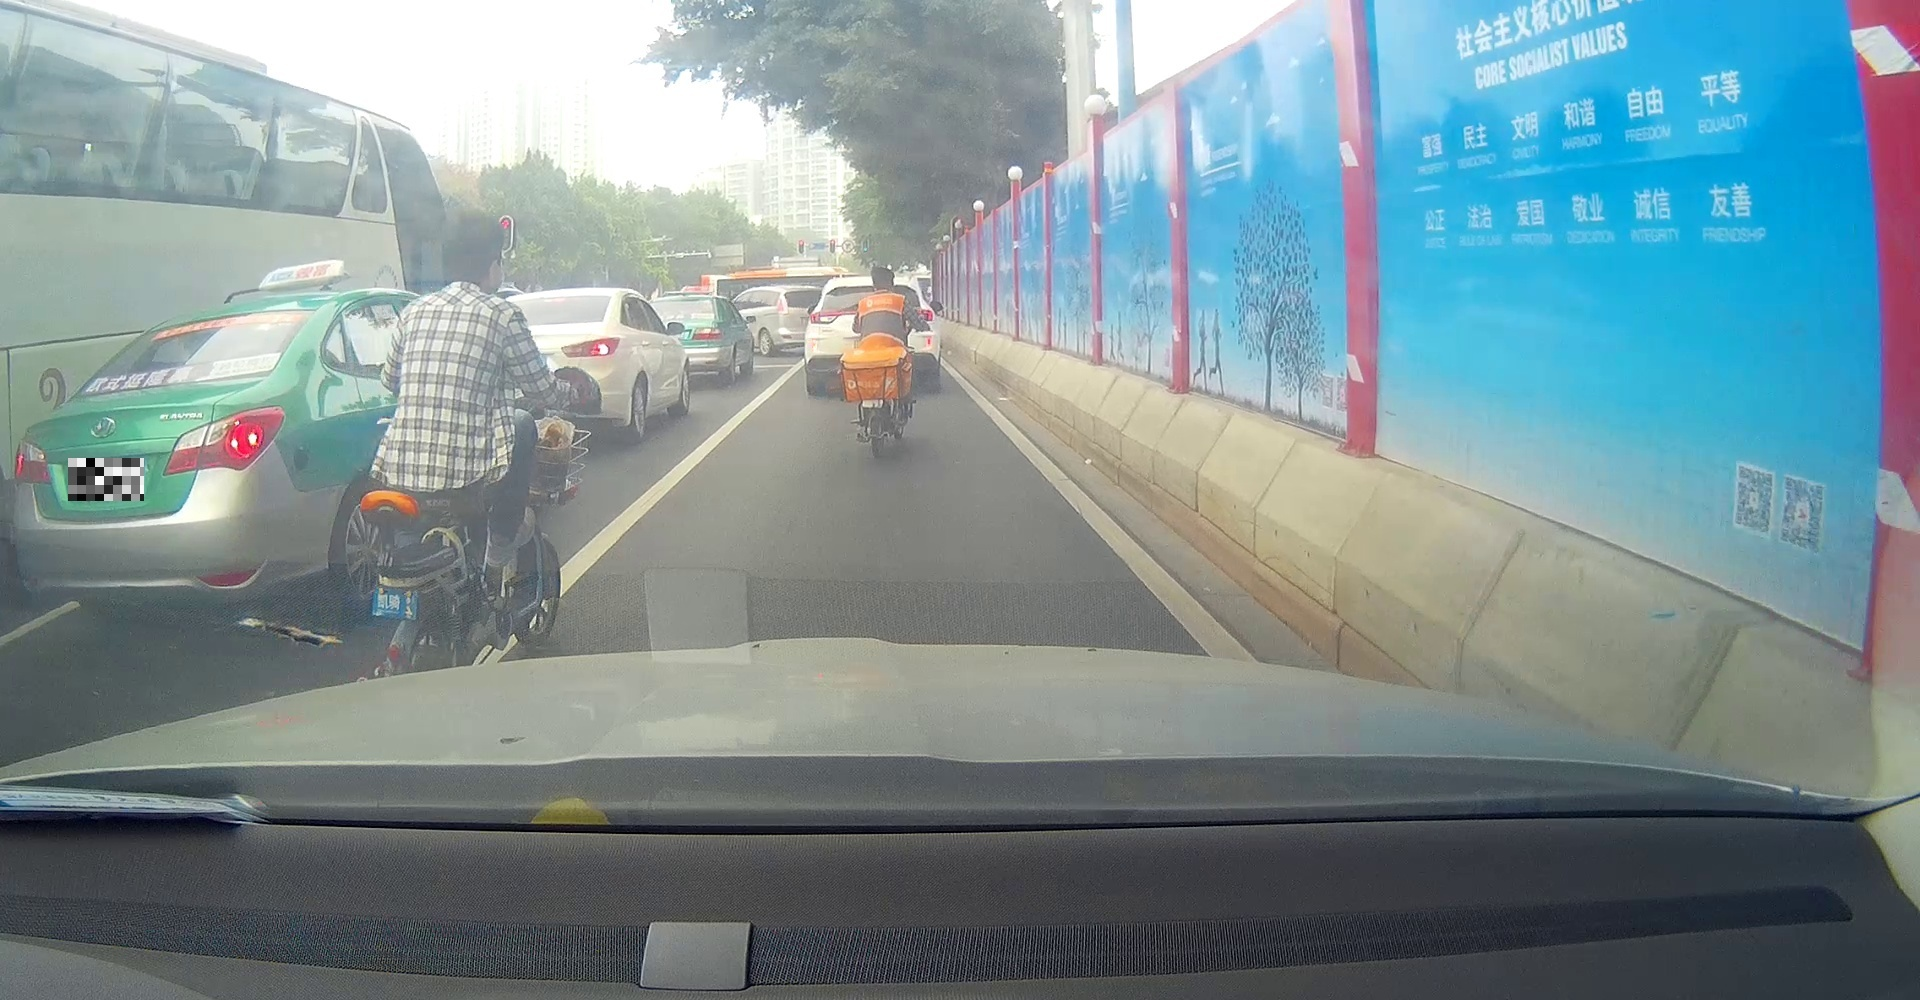L_light: (17, 437, 51, 484)
R_light: (163, 404, 286, 477)
T_light: (203, 317, 240, 326)
day-brake: (13, 291, 316, 635)
plate_1: (69, 458, 143, 501)
